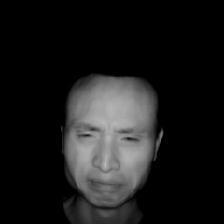sad: (62, 62, 169, 206)
